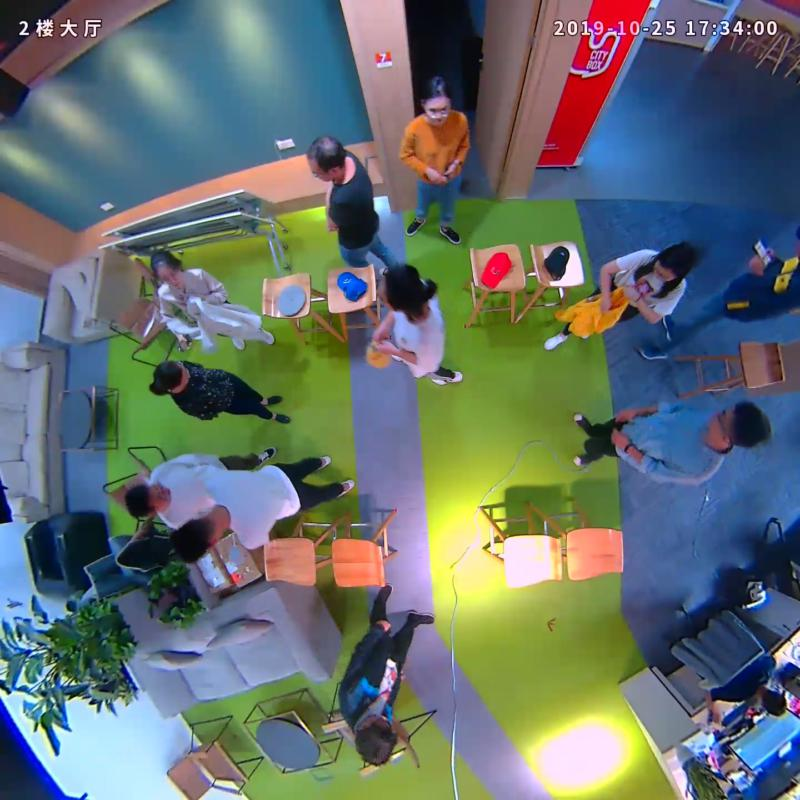head: (705, 401, 770, 449), (169, 514, 224, 564), (354, 715, 399, 768), (375, 265, 421, 312), (306, 135, 347, 183), (418, 74, 452, 125), (652, 244, 691, 283), (125, 483, 171, 515), (150, 250, 184, 289), (153, 361, 189, 393)
